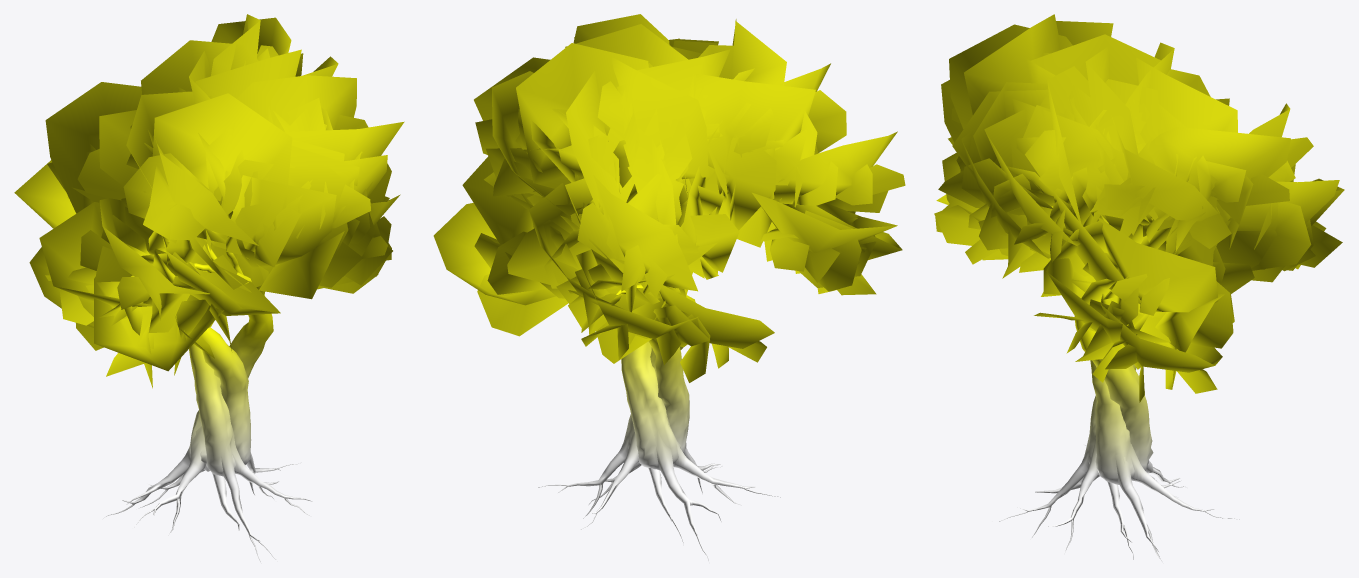
File: Olivetree3.fbx
The picture shows the model from 3 angles, left to right: view 1: azimuth 30°, elevation 25°; view 2: azimuth 150°, elevation 25°; view 3: azimuth 270°, elevation 25°; orthographic projection. The views are drawn at different scales.
Parts seen in each view (by area): view 1: Olivetree3_LOD0; view 2: Olivetree3_LOD0; view 3: Olivetree3_LOD0.
Part boxes in pixels (x1,y1,x2,y2): Olivetree3_LOD0: [14, 14, 404, 561]; Olivetree3_LOD0: [433, 14, 905, 560]; Olivetree3_LOD0: [934, 14, 1344, 560].
Size of what is drawn, in the model's own units: 897 by 1060 by 792.
